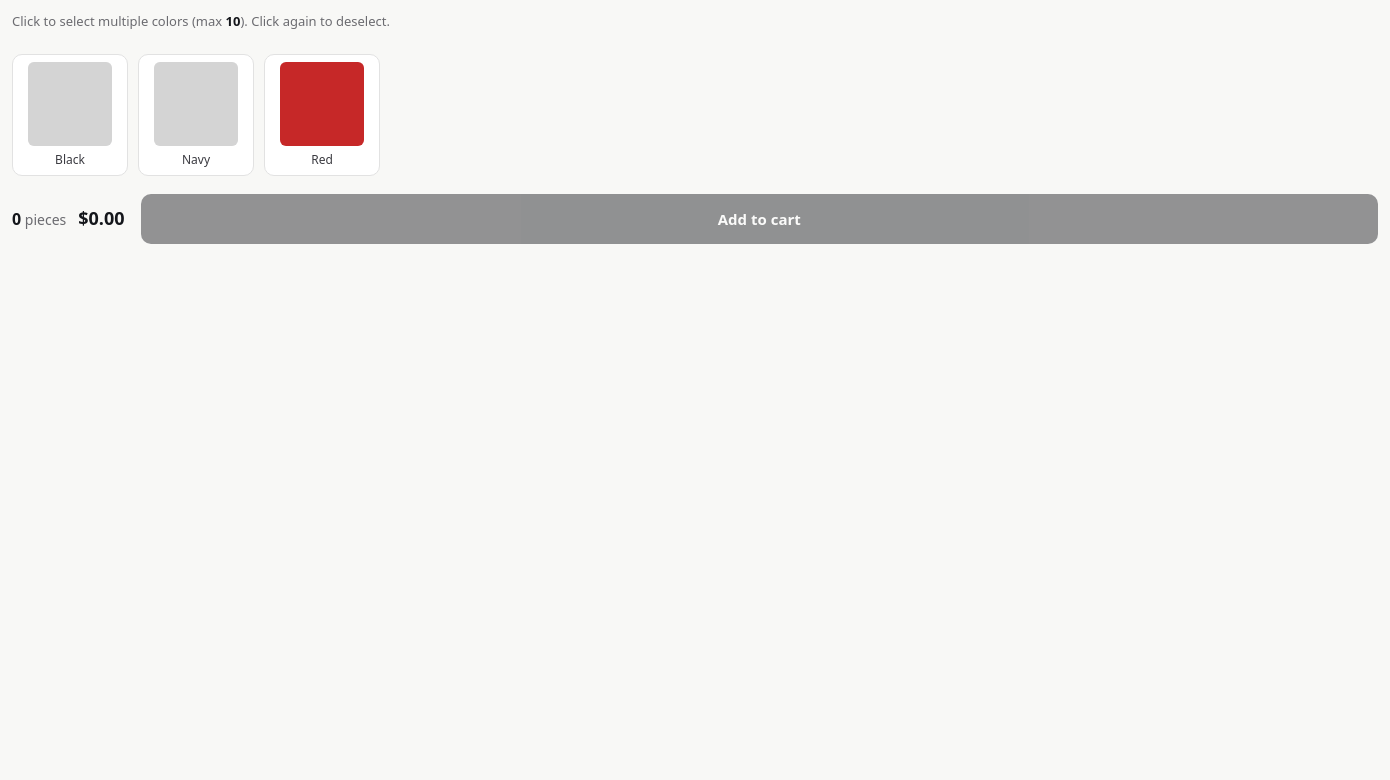
Test case: choosing colours › puts a colour back on a second click, or with Remove, and its quantities go with it
Click the button "Black": x=70, y=114 [12,54,128,176]
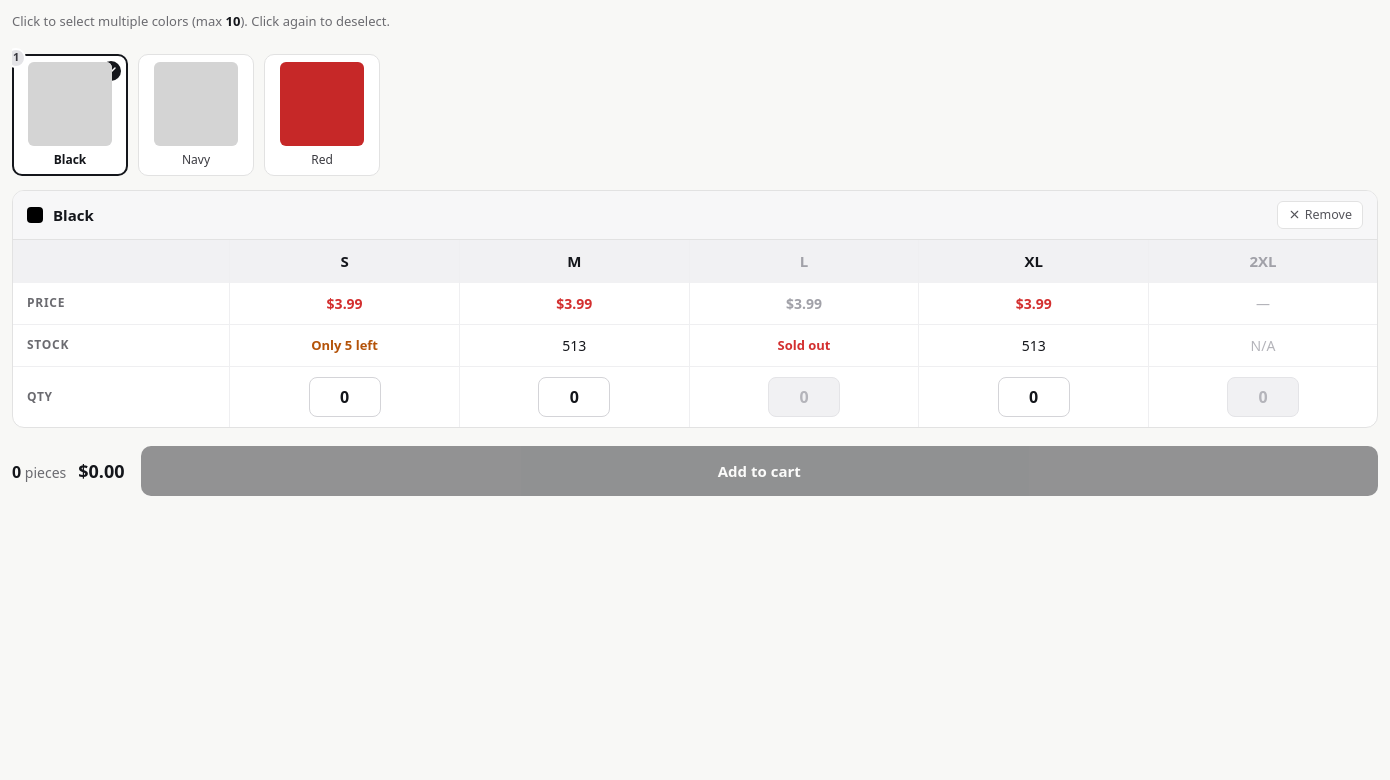
Replace the text in the field named "Black, M: how many" with "4": x=574, y=397 [538,377,610,417]
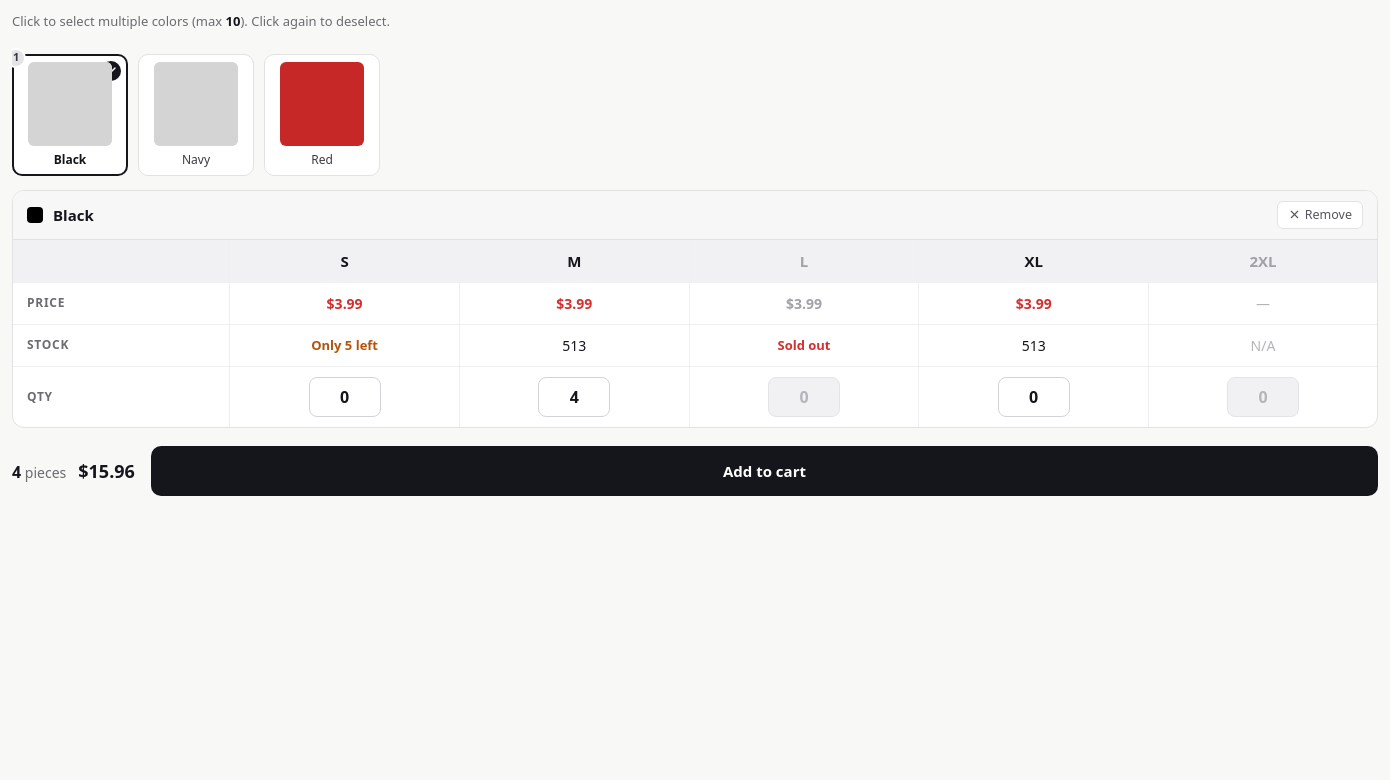
Expected: the text "4" is shown, [12,460,21,482]
Click the button "1 Black": x=70, y=114 [12,54,128,176]
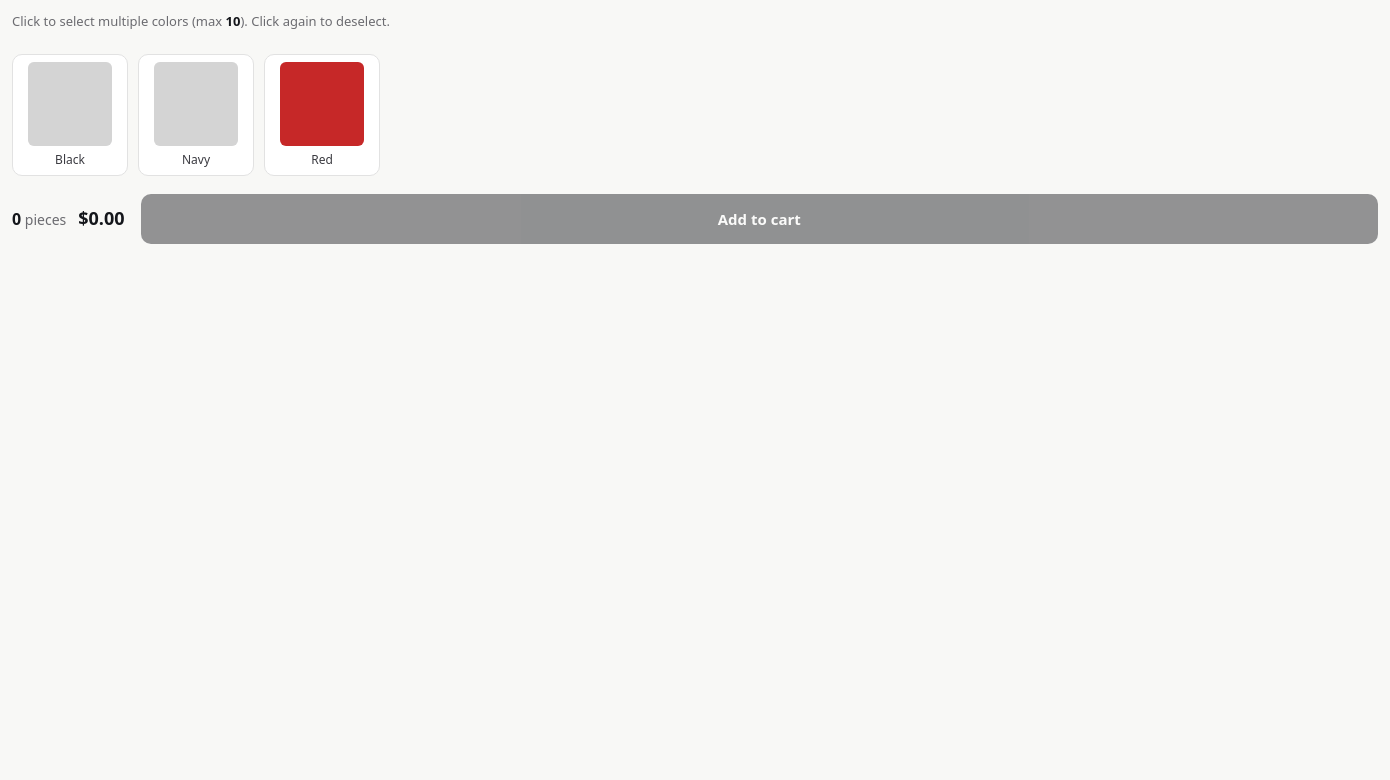
Click the button "Black": x=70, y=114 [12,54,128,176]
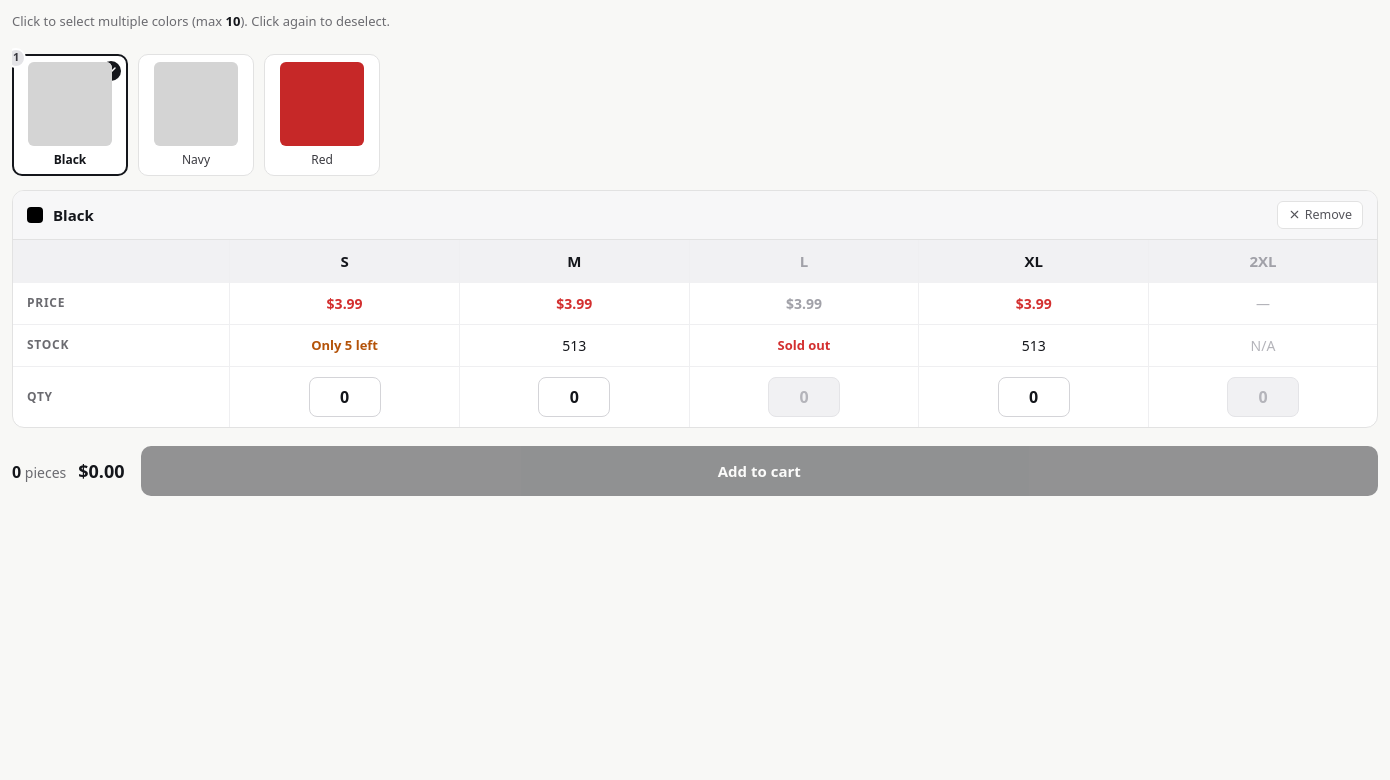
Click the button "Red": x=322, y=114 [264,54,380,176]
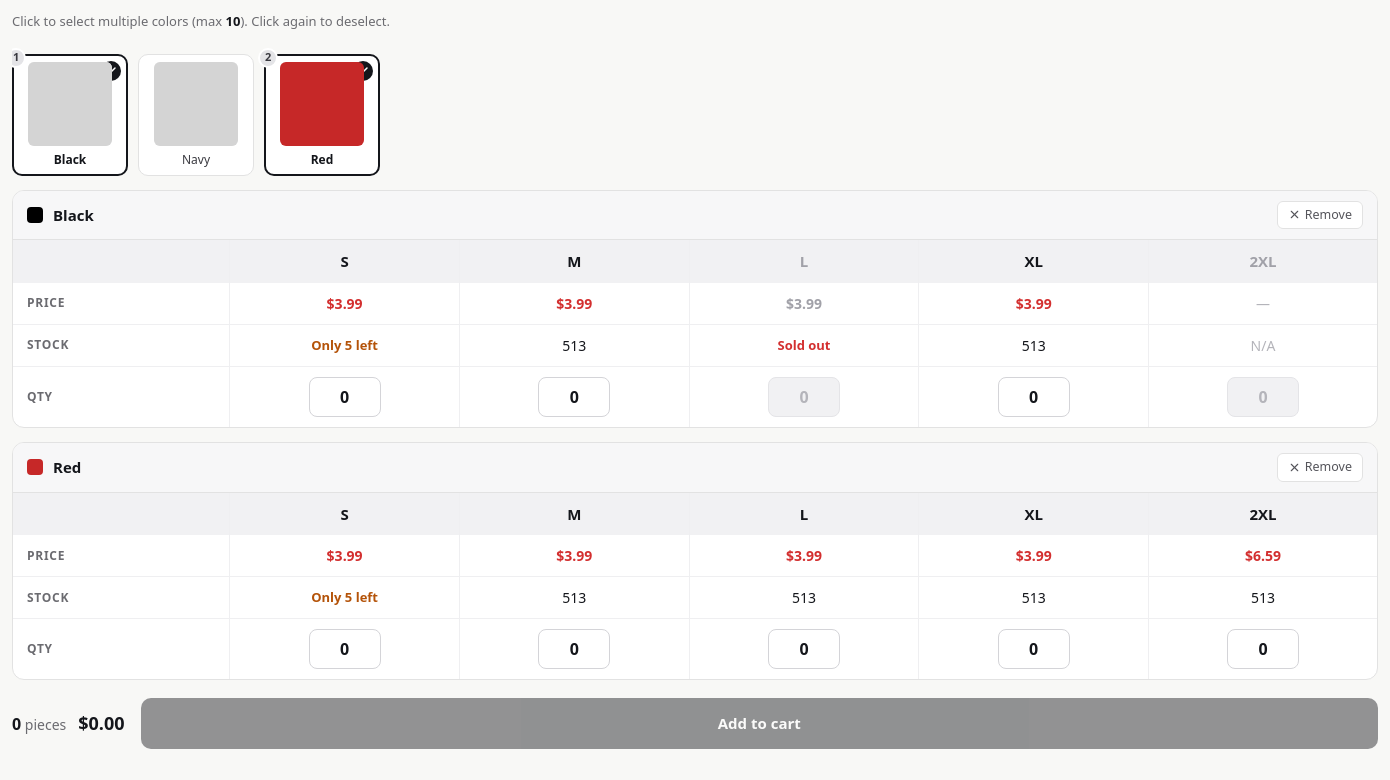
Click the button with aria-label "Remove Black": x=1320, y=215 [1277,200,1363,229]
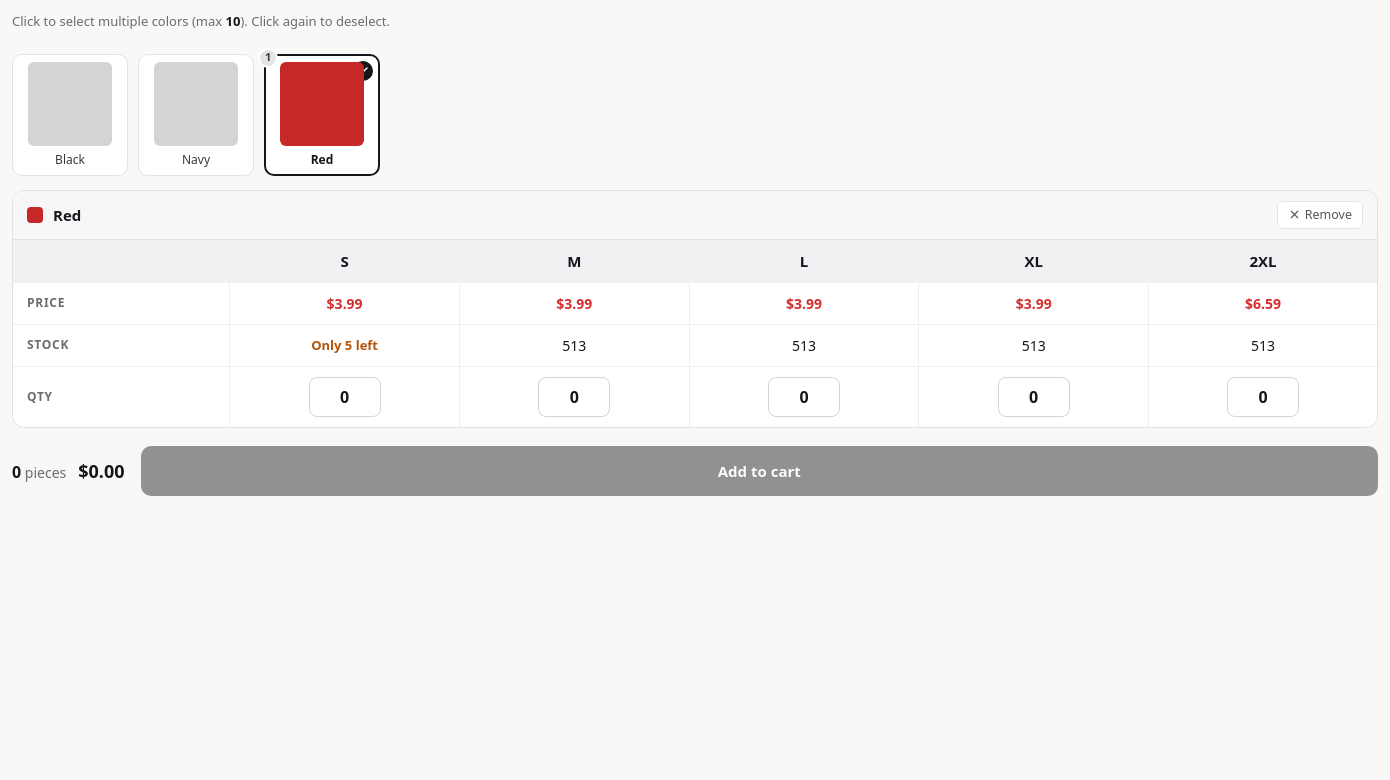
Expected: the text with class "bop-n" reads "1", [265,49,271,64]
